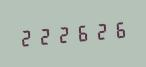six: (108, 16, 125, 42), (72, 20, 89, 45)
two: (17, 24, 34, 50), (54, 21, 71, 47), (35, 23, 52, 48), (90, 18, 107, 43)
